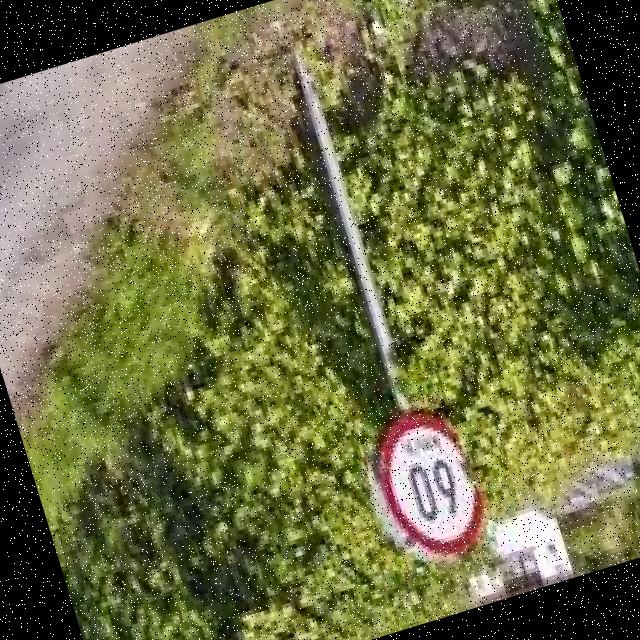speed_limit_60: (362, 388, 504, 568)
